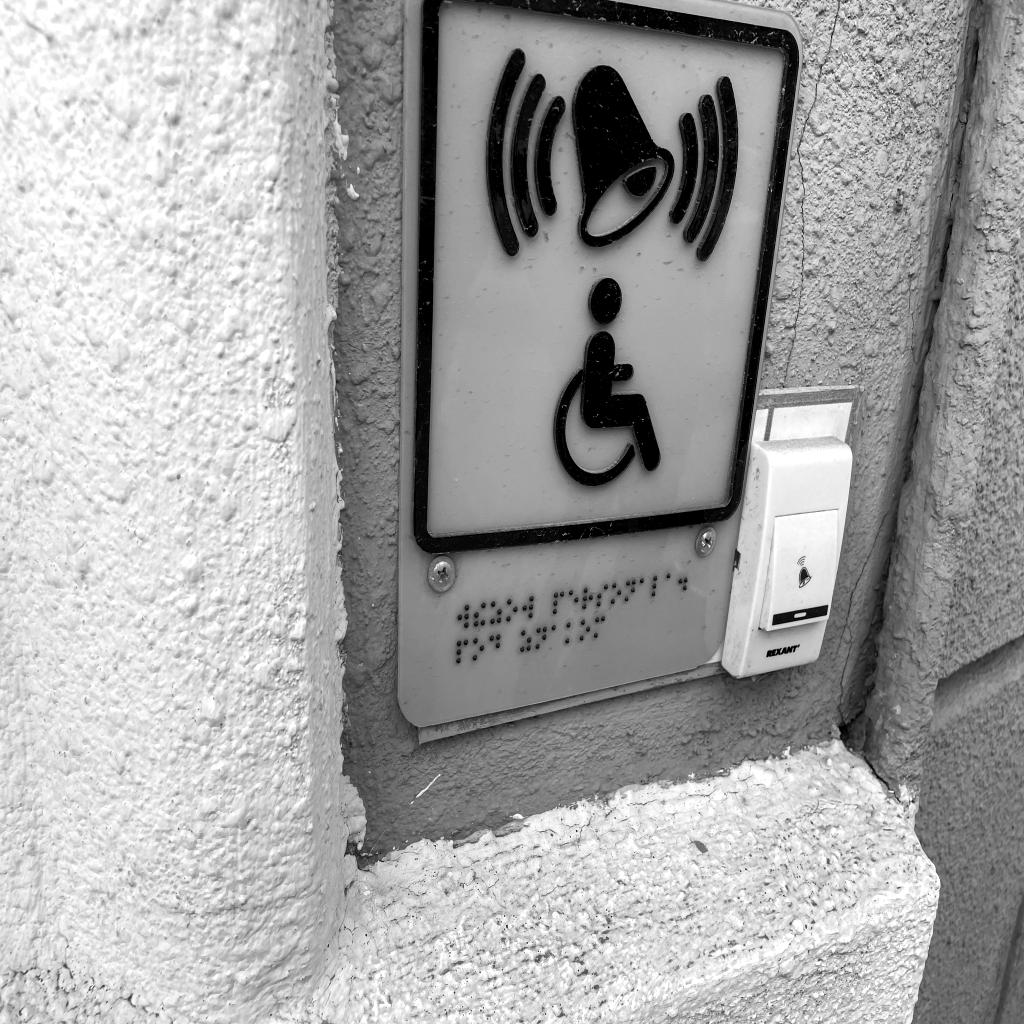_n: (536, 626, 548, 649), (624, 580, 636, 602)
a: (638, 577, 650, 599), (665, 573, 676, 595), (550, 624, 561, 645)
d: (489, 634, 501, 657)
e: (568, 589, 579, 612)
ii: (473, 602, 486, 627)
k: (565, 622, 576, 644)
l: (651, 575, 664, 597)
m: (594, 616, 605, 638)
o: (506, 599, 518, 622), (472, 638, 484, 660), (610, 583, 622, 604), (580, 619, 591, 641)
p: (552, 591, 565, 615), (456, 639, 469, 663)
r: (582, 587, 594, 610)
s: (596, 584, 608, 607)
tochka: (678, 569, 689, 591)
v: (458, 605, 470, 628), (522, 596, 534, 619)
z: (490, 601, 502, 624), (521, 630, 532, 652)
